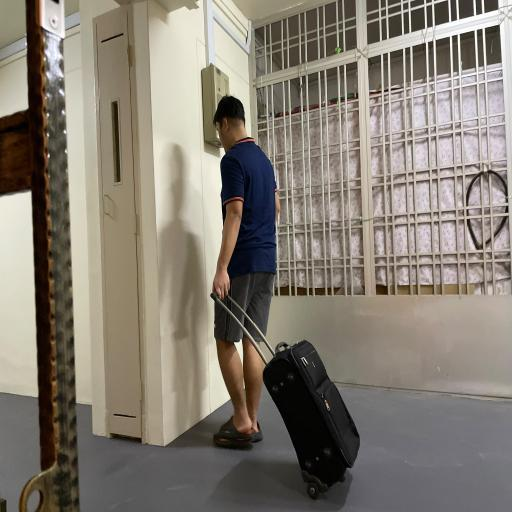person_left: (196, 90, 364, 496)
